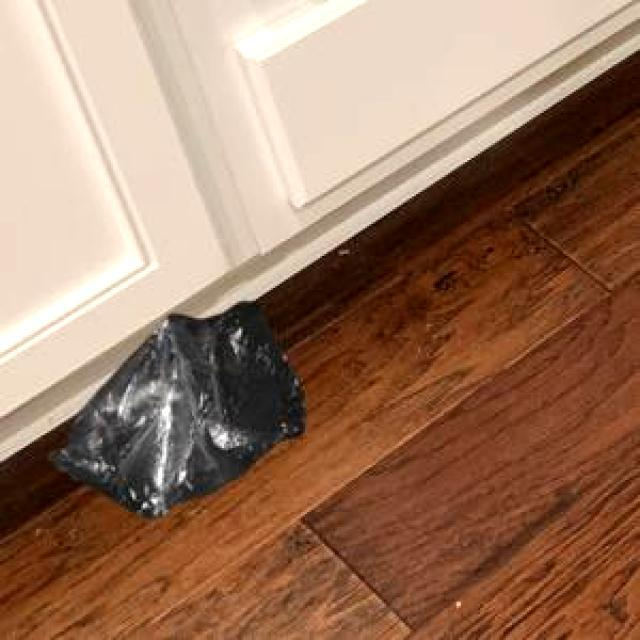Plastic_Bag: (46, 300, 302, 516)
